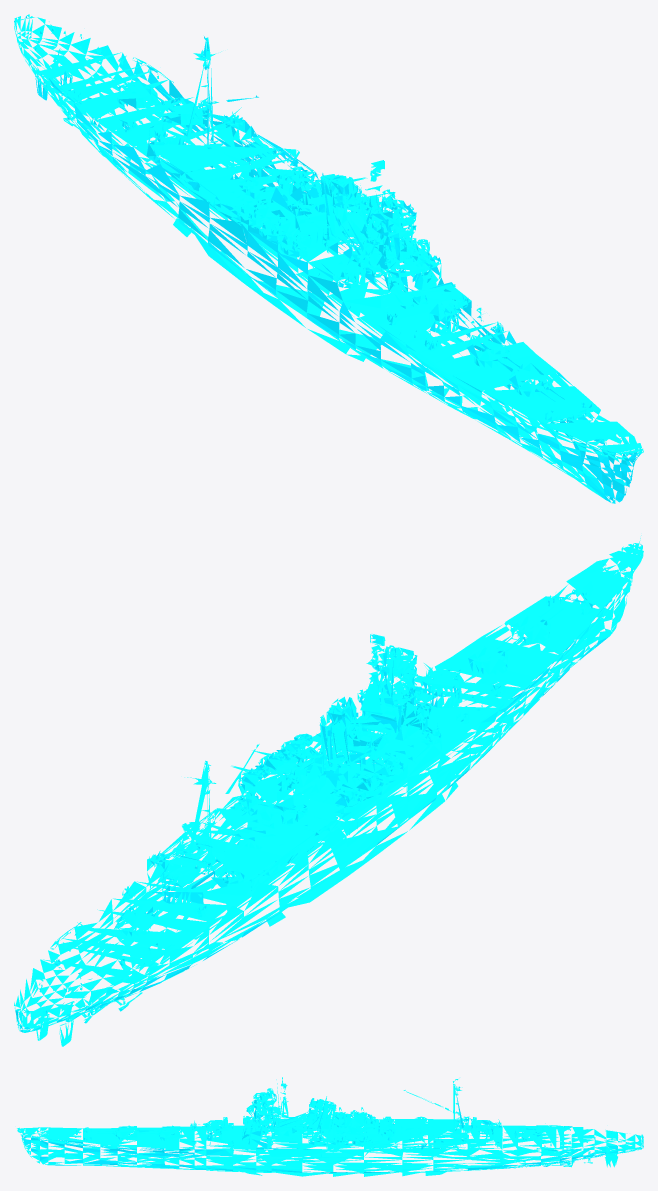
Rendered from Kushiro.glb.
3 views of the same model, one above another, from view 1: azimuth 30°, elevation 25°; view 2: azimuth 150°, elevation 25°; view 3: azimuth 270°, elevation 25° (orthographic). The views are drawn at different scales.
Size of the model in its own units: 1.92 by 2.27 by 14.87.
